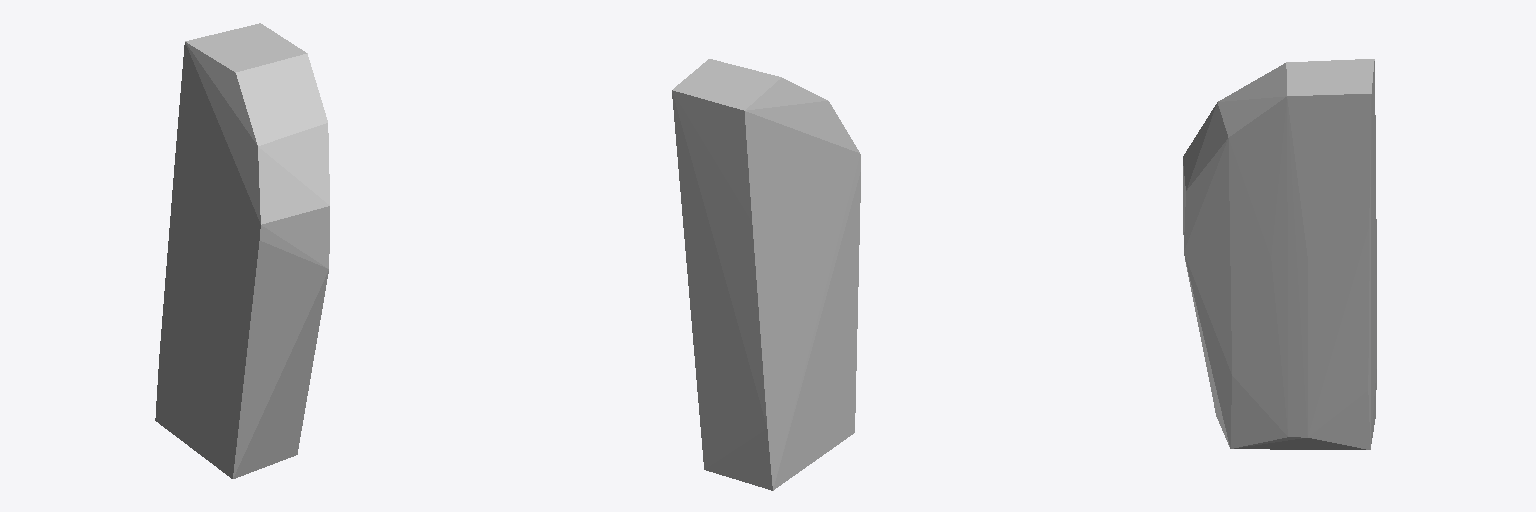
Rendered from trash_bin_collision_29.obj.
3 renders of one model, left to right at view 1: azimuth 30°, elevation 25°; view 2: azimuth 150°, elevation 25°; view 3: azimuth 270°, elevation 25°, orthographic.
Bounding box in the file's own units: 0.0263 × 0.0853 × 0.0402.